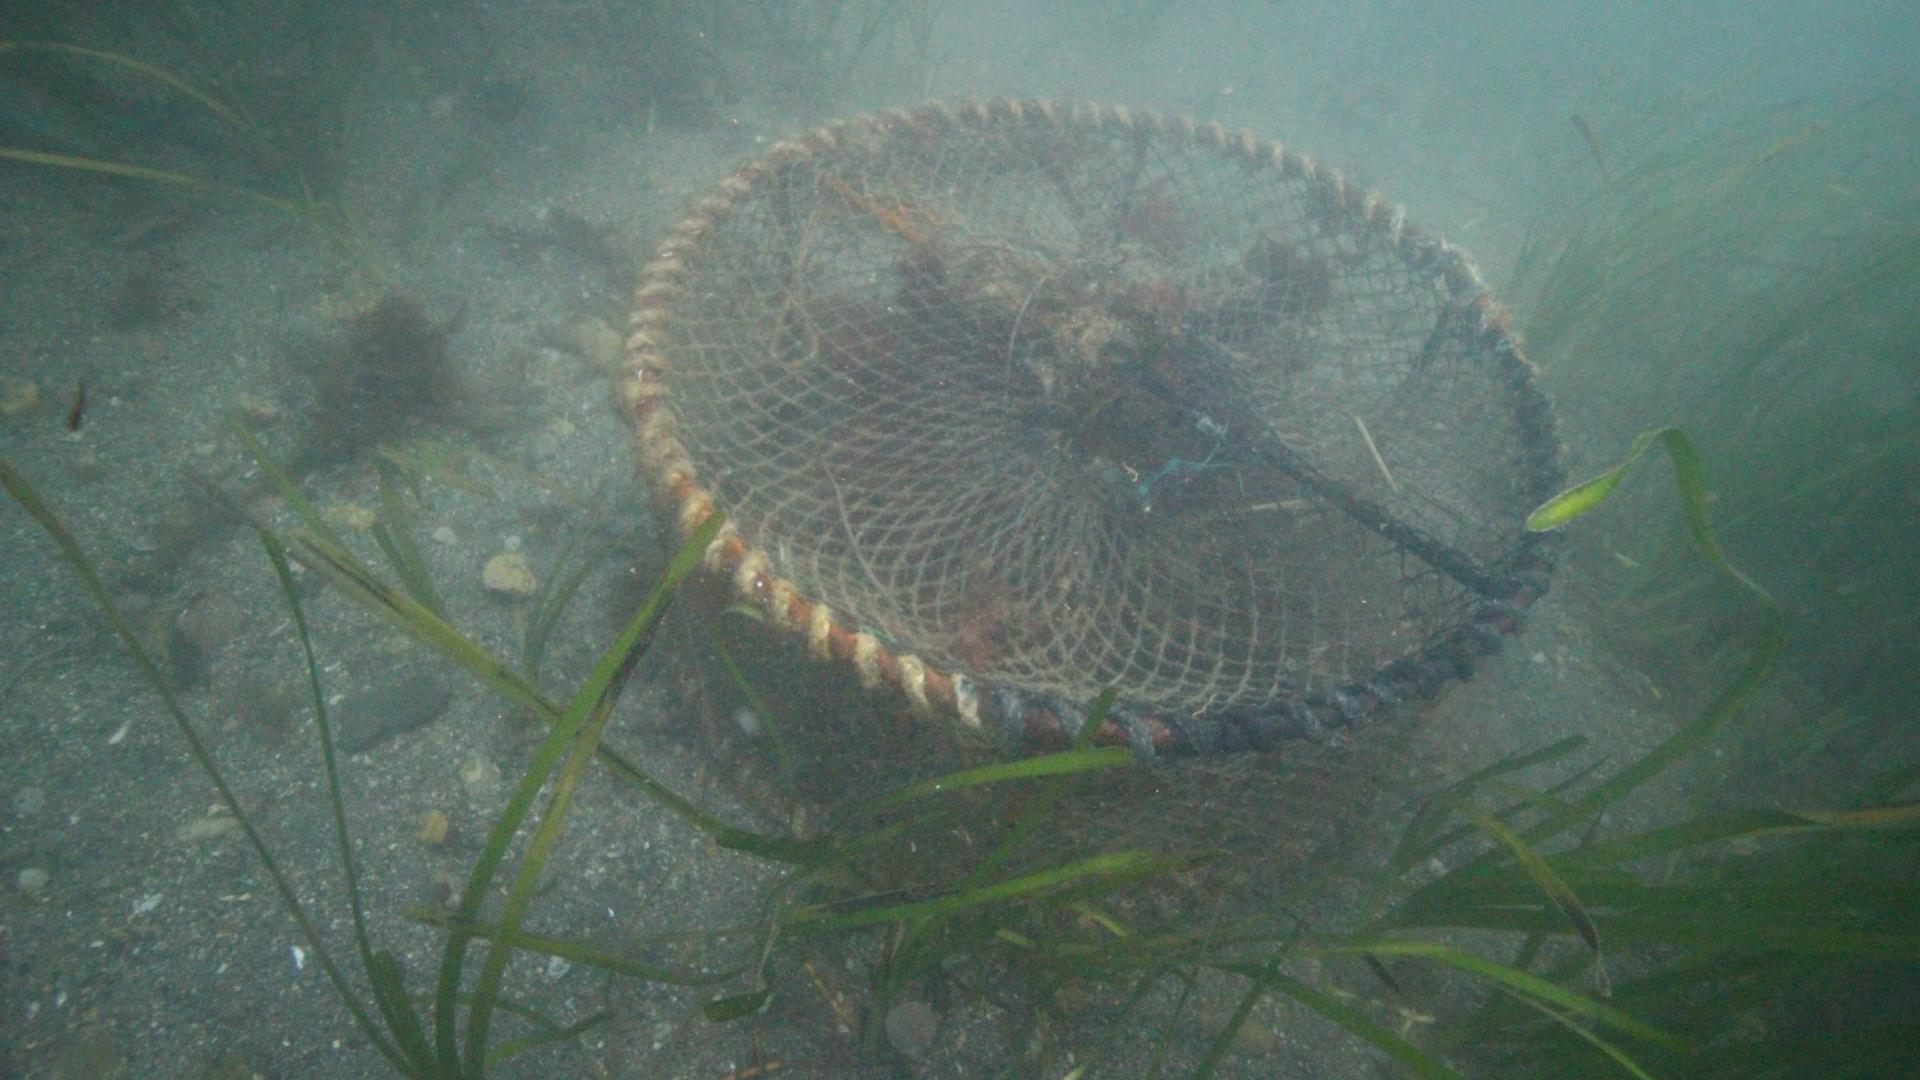circular fish trap: (613, 94, 1567, 915)
